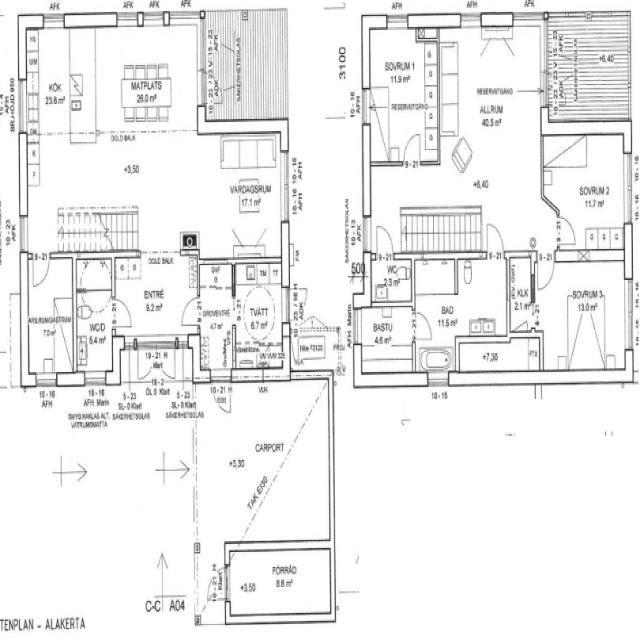door: (210, 372, 232, 417), (484, 219, 506, 259), (155, 344, 177, 383), (30, 251, 51, 290), (374, 222, 395, 260), (556, 214, 578, 250), (112, 296, 134, 332), (412, 308, 434, 343), (210, 564, 230, 602), (535, 254, 556, 290), (402, 129, 422, 166), (180, 294, 200, 329), (204, 76, 218, 108)
window: (622, 152, 634, 230), (280, 148, 291, 226), (624, 276, 635, 354), (15, 75, 27, 136), (168, 8, 202, 26), (385, 10, 411, 32), (140, 9, 168, 29), (114, 10, 143, 29), (41, 11, 66, 32), (458, 10, 483, 31), (511, 10, 546, 25), (18, 213, 30, 254), (197, 17, 206, 68), (361, 85, 371, 128), (351, 304, 361, 346), (281, 284, 291, 325), (426, 372, 450, 388), (34, 375, 59, 390), (84, 371, 107, 387)
zone: (196, 378, 334, 545), (440, 22, 542, 204), (92, 21, 200, 130), (541, 130, 630, 248), (367, 24, 439, 164), (546, 254, 630, 374), (213, 128, 284, 260), (24, 25, 95, 138), (225, 548, 332, 618), (114, 255, 199, 343), (411, 257, 483, 342), (26, 255, 74, 381), (232, 275, 286, 364), (355, 303, 416, 378), (454, 256, 508, 339), (455, 335, 545, 382), (75, 280, 115, 379), (199, 278, 234, 353), (369, 255, 415, 306), (507, 252, 534, 333), (76, 257, 114, 295), (199, 260, 234, 290), (243, 260, 281, 285), (234, 340, 261, 373)
